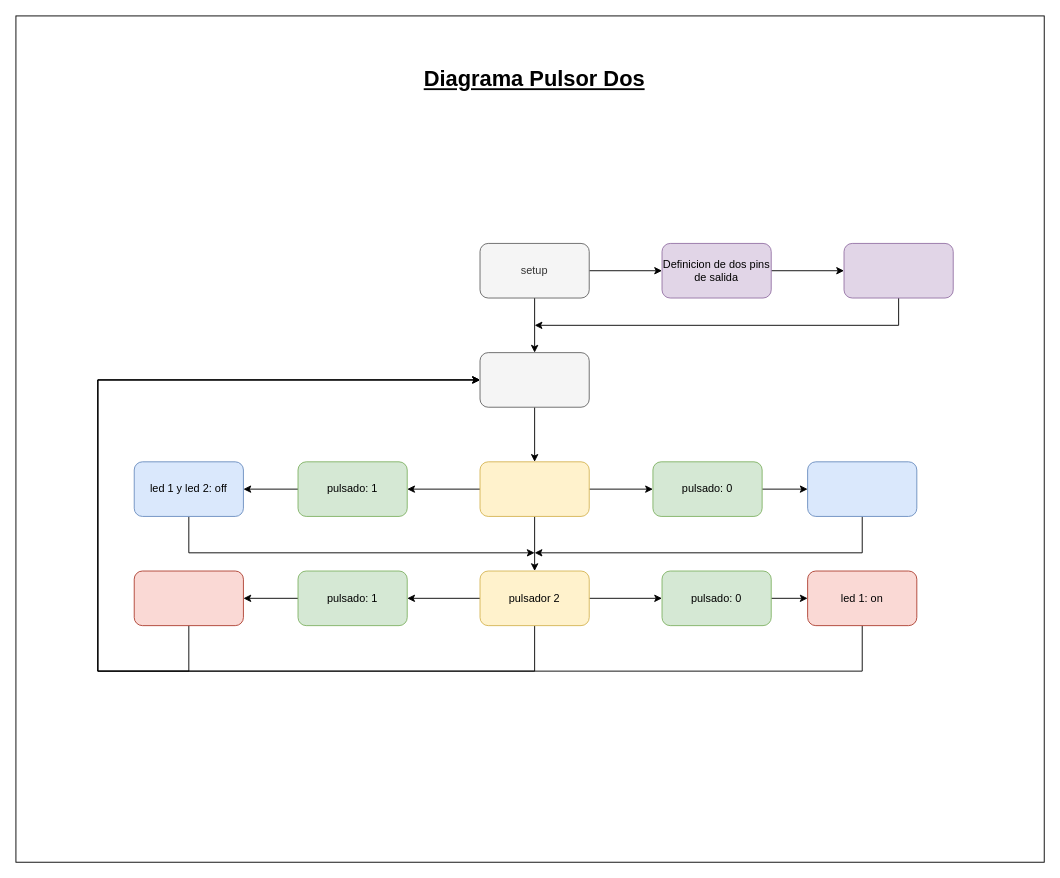
The diagram is 1060 pixels wide and 878 high, and some of its shapes have lost their labels. Here are the shapes that lost their labels. From the top down, the centre of each, then its label:
At [898,270]: "Definicion de dos pins de entrada".
At [534,379]: "loop".
At [534,488]: "pulsador 1".
At [862,488]: "led 1 y led 2: on".
At [188,598]: "led 1: off".
